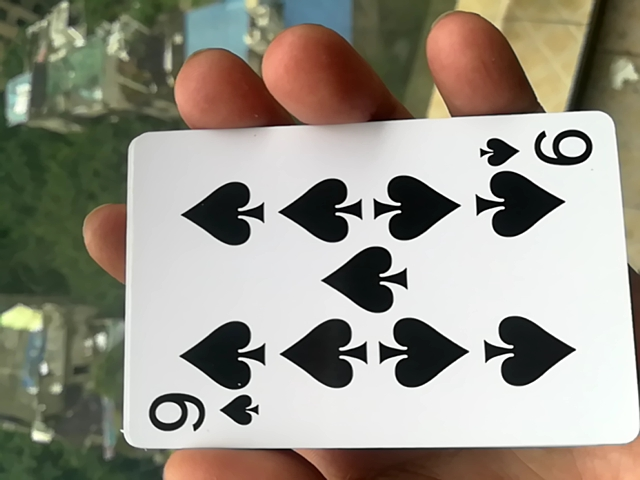ht 9: (113, 125, 633, 461)
